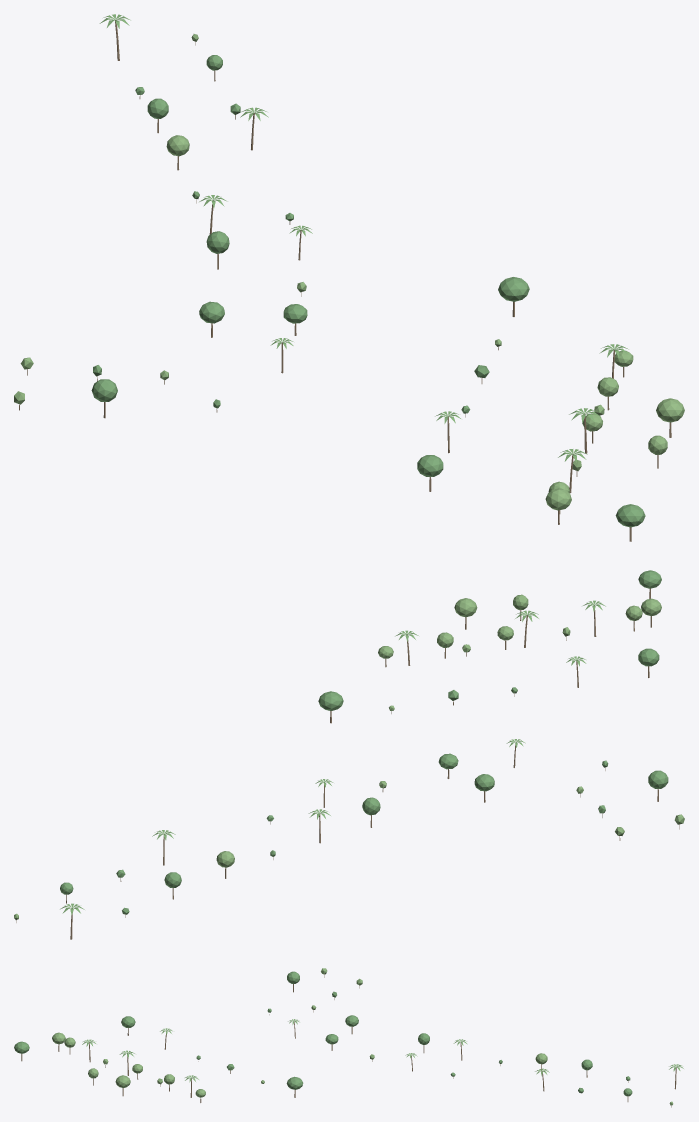
The model's file is nature_-7_4.glb.
3 views of the same model, one above another, from view 1: azimuth 30°, elevation 25°; view 2: azimuth 150°, elevation 25°; view 3: azimuth 270°, elevation 25° (orthographic). The views are drawn at different scales.
Parts seen in each view (by area): view 1: foliage_a, foliage_b, palm_leaf, trunk; view 2: foliage_a, foliage_b, palm_leaf, trunk; view 3: foliage_a, foliage_b, trunk, palm_leaf.
Boxes of the visible parts, x1=… form: foliage_a: x1=91, y1=55, x2=645, y2=527; foliage_b: x1=14, y1=34, x2=684, y2=510; palm_leaf: x1=99, y1=14, x2=628, y2=462; trunk: x1=19, y1=20, x2=671, y2=541; foliage_a: x1=60, y1=570, x2=668, y2=914; foliage_b: x1=14, y1=594, x2=684, y2=919; palm_leaf: x1=60, y1=600, x2=605, y2=915; trunk: x1=16, y1=588, x2=679, y2=939; foliage_a: x1=14, y1=971, x2=632, y2=1096; foliage_b: x1=52, y1=968, x2=673, y2=1105; trunk: x1=21, y1=974, x2=676, y2=1107; palm_leaf: x1=82, y1=1019, x2=683, y2=1082.
Size of the model in its own units: 105 by 8.36 by 226.
